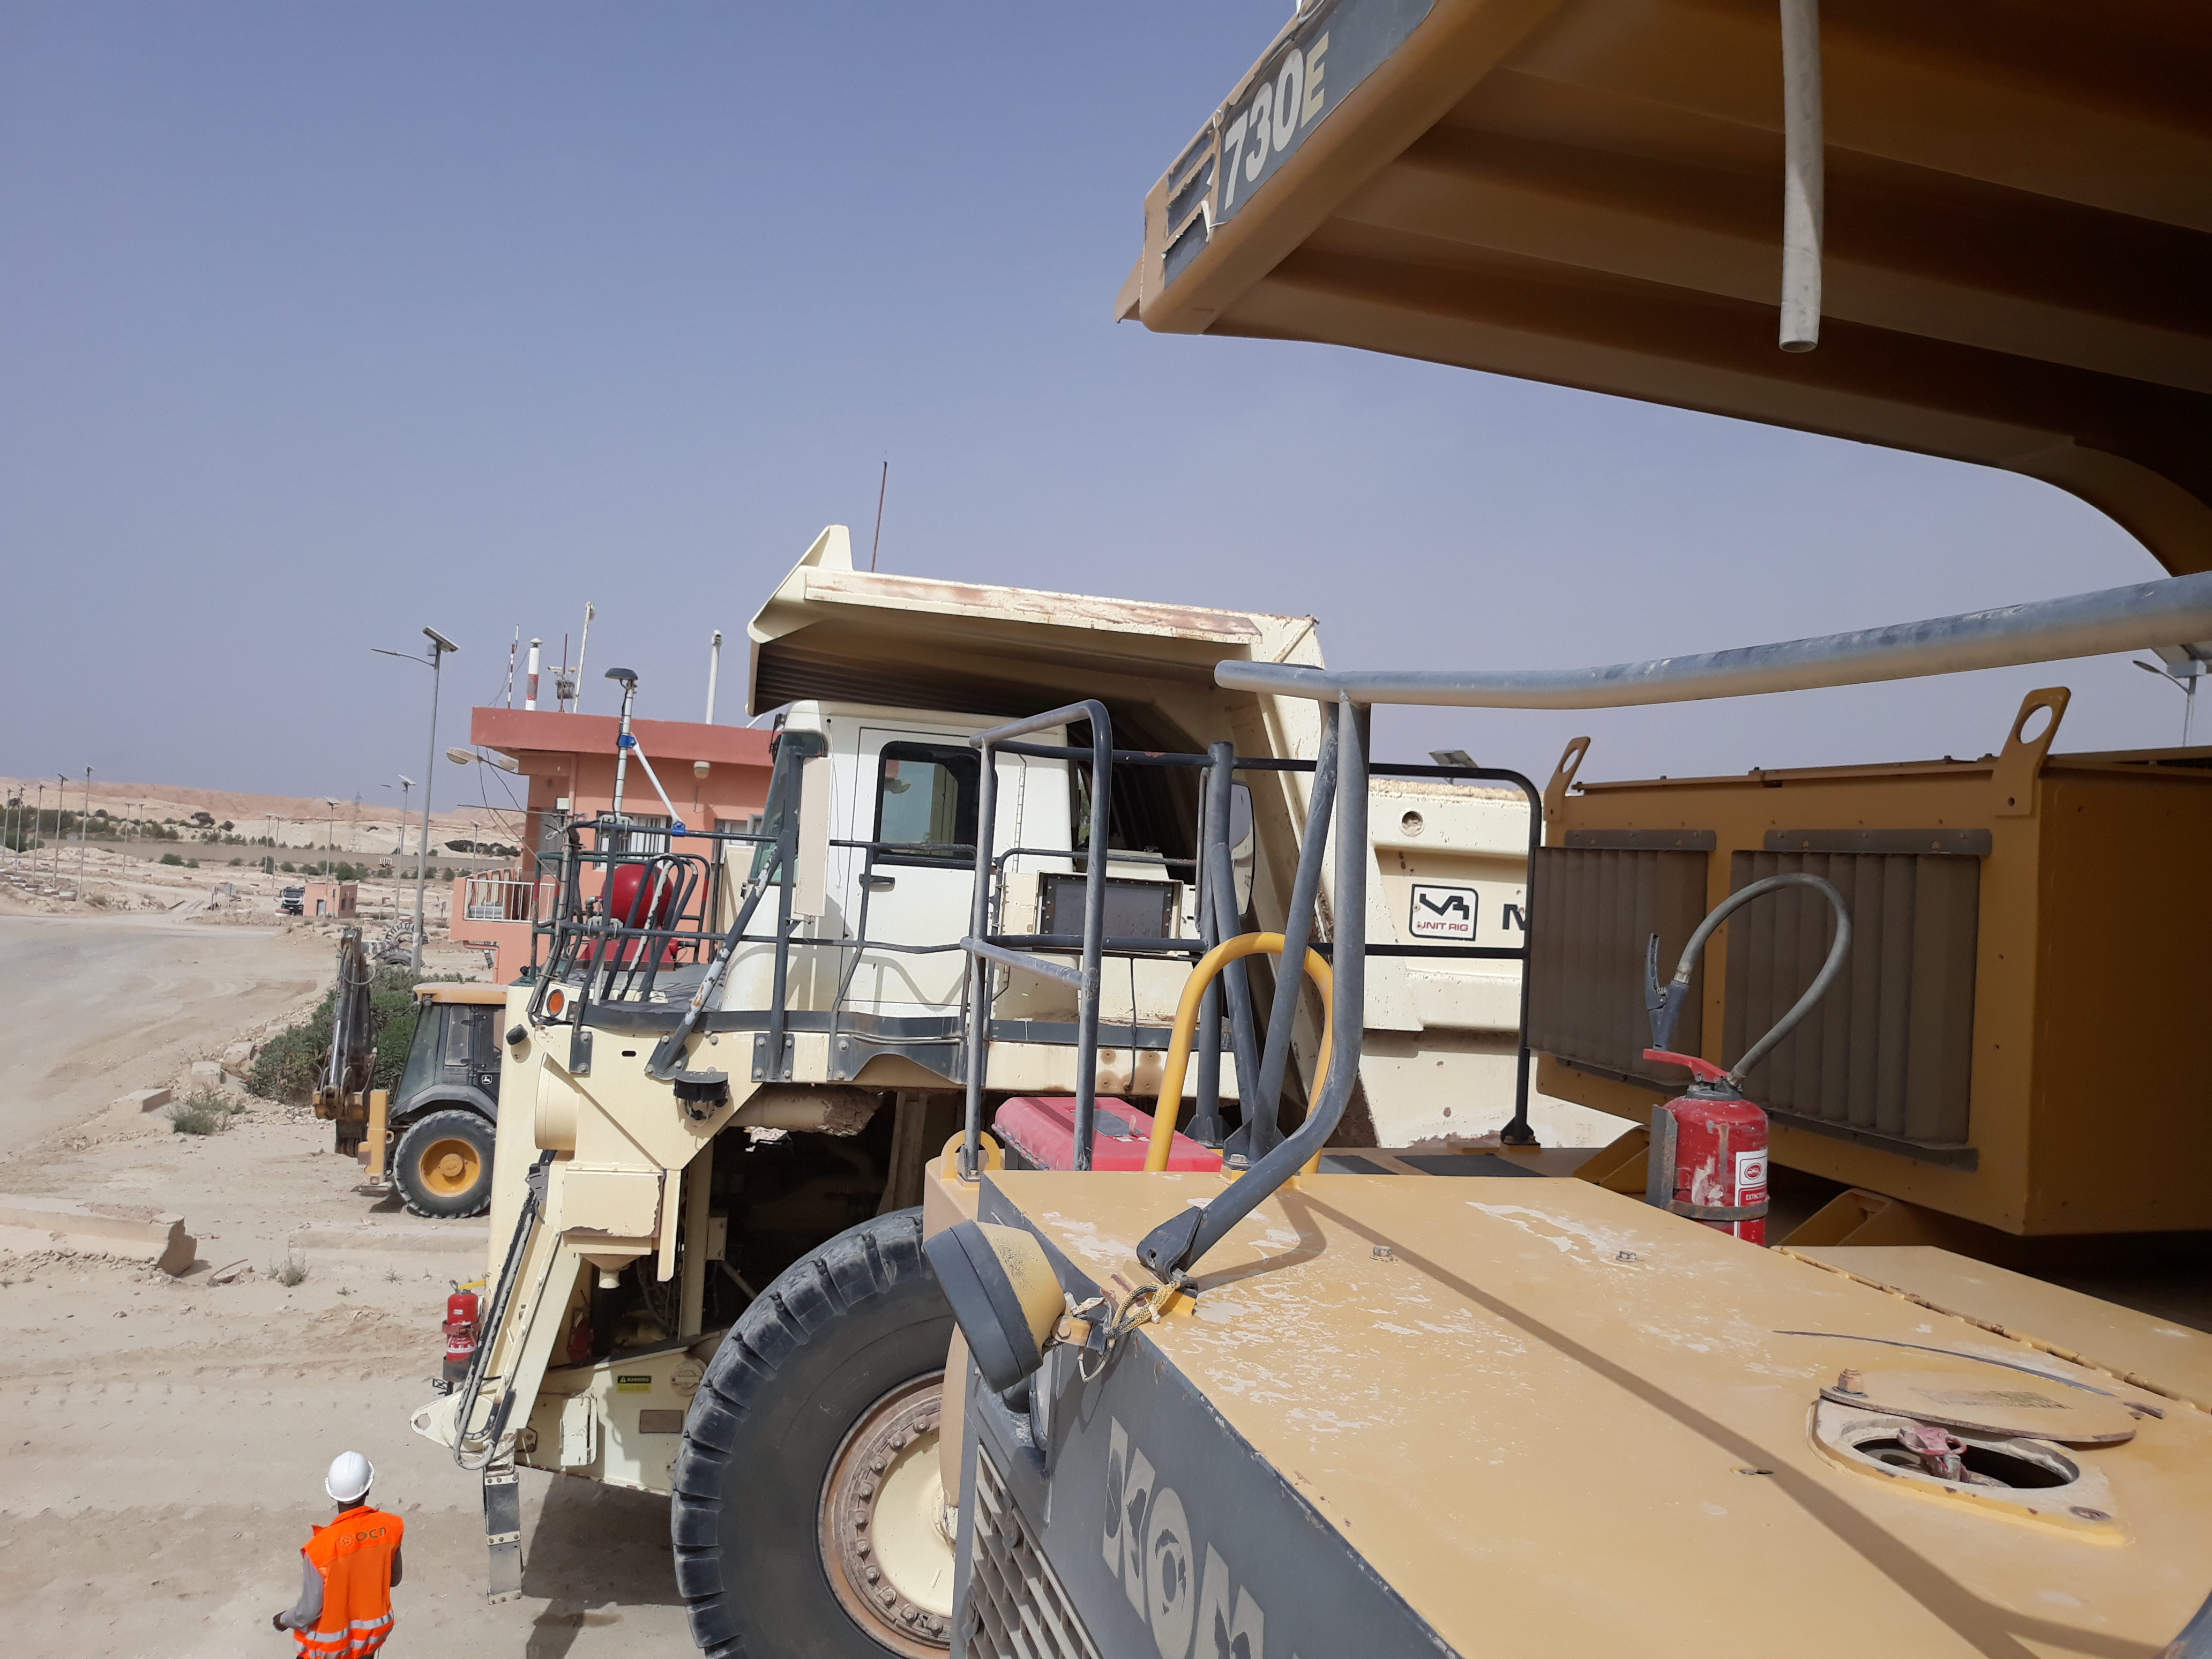camion: (456, 479, 1627, 1659)
person: (270, 1438, 417, 1659)
